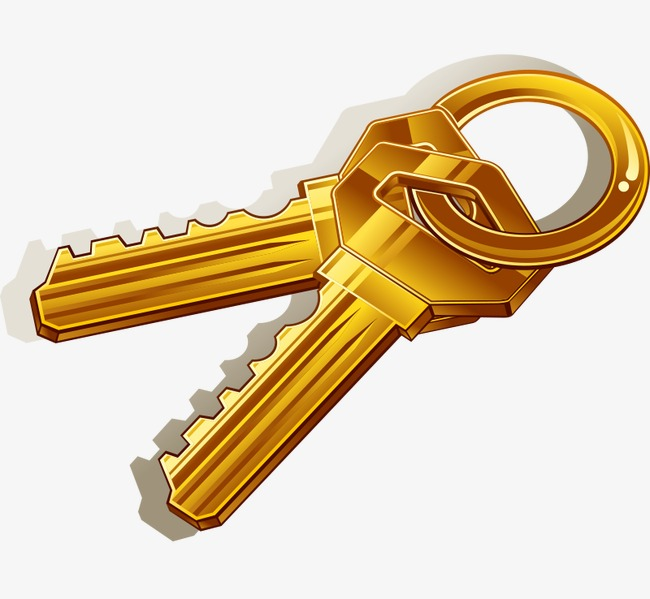key: (138, 134, 556, 542), (26, 95, 544, 353)
